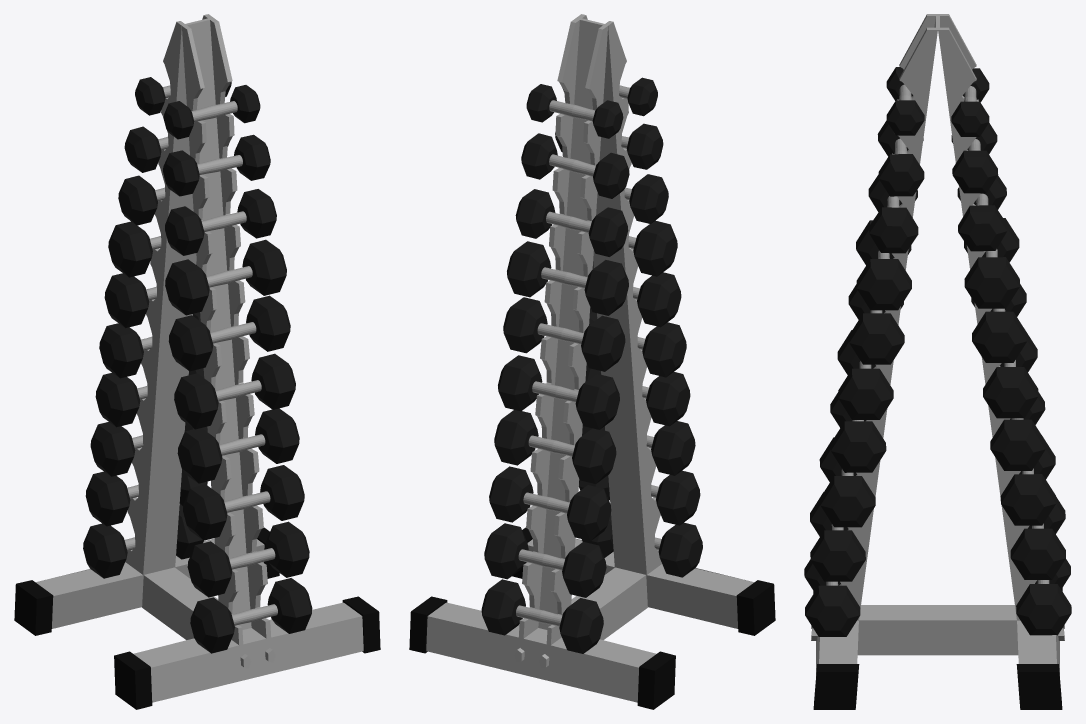
Rendered from HexDumbbellSet.001.fbx.
3 views of the same model, side by side, from view 1: azimuth 30°, elevation 25°; view 2: azimuth 150°, elevation 25°; view 3: azimuth 270°, elevation 25° (orthographic). The views are drawn at different scales.
Visible parts, largest first — view 1: HexDubbellSet2; view 2: HexDubbellSet2; view 3: HexDubbellSet2.
Part boxes in pixels (left/top/right/bottom): HexDubbellSet2: left=14, top=14, right=380, bottom=709; HexDubbellSet2: left=409, top=14, right=775, bottom=709; HexDubbellSet2: left=804, top=14, right=1071, bottom=709.
Size of the model in its own units: 51.94 by 125 by 48.11.
